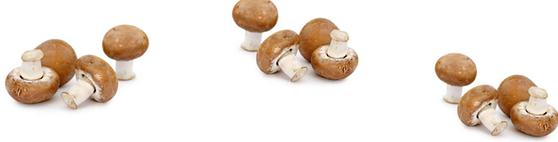champignon: (253, 27, 311, 86), (314, 33, 362, 85), (239, 1, 275, 45)
